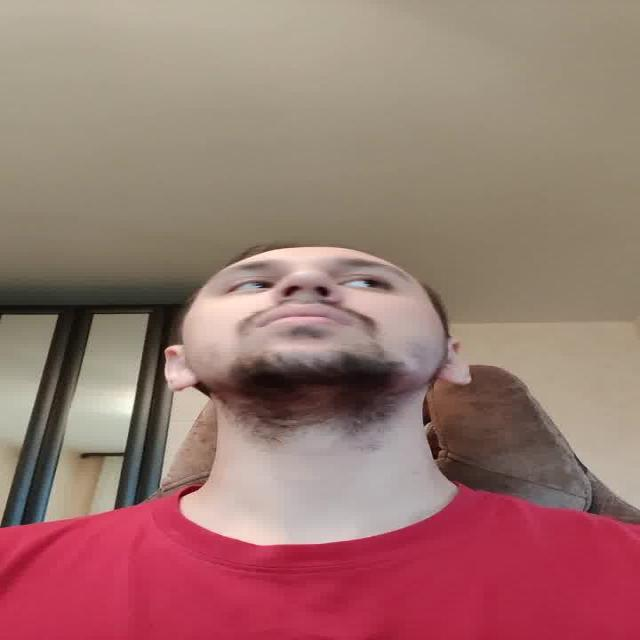earlobe: (438, 335, 477, 386), (164, 344, 200, 390)
